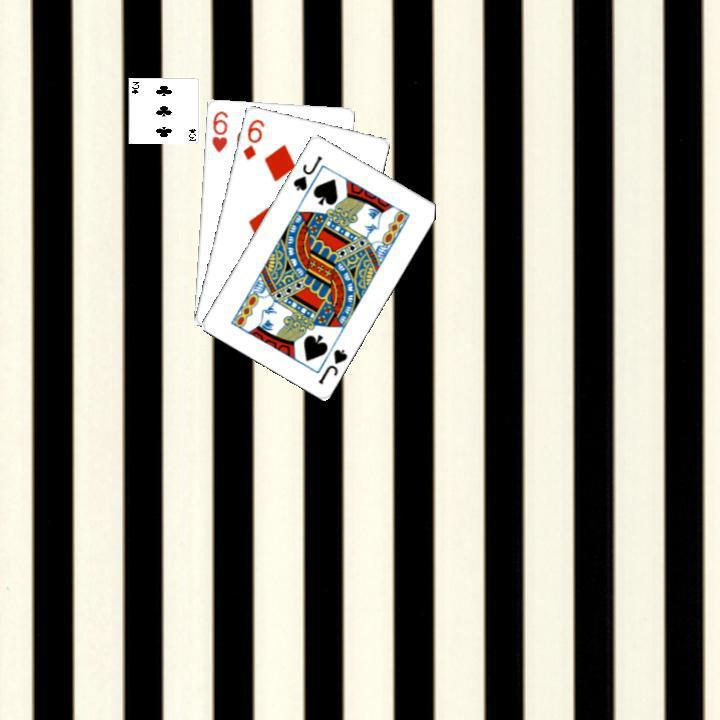6: (238, 114, 266, 162), (207, 106, 229, 154)
J: (313, 344, 350, 386), (288, 151, 324, 193)
